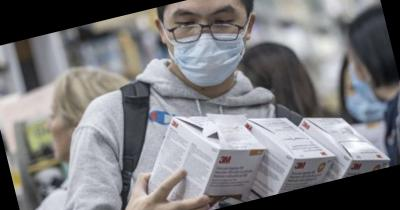with_mask: (339, 71, 390, 129), (344, 44, 384, 110)
without_mask: (38, 103, 80, 170)
